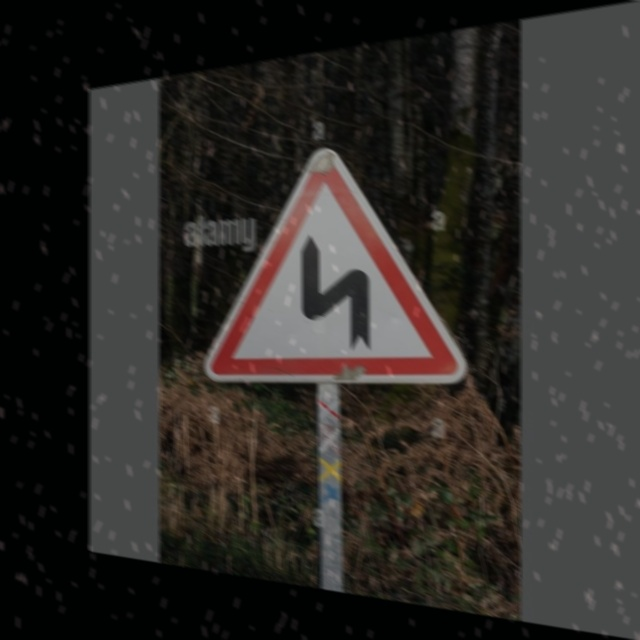Left_Reverse_Bend: (204, 134, 473, 394)
